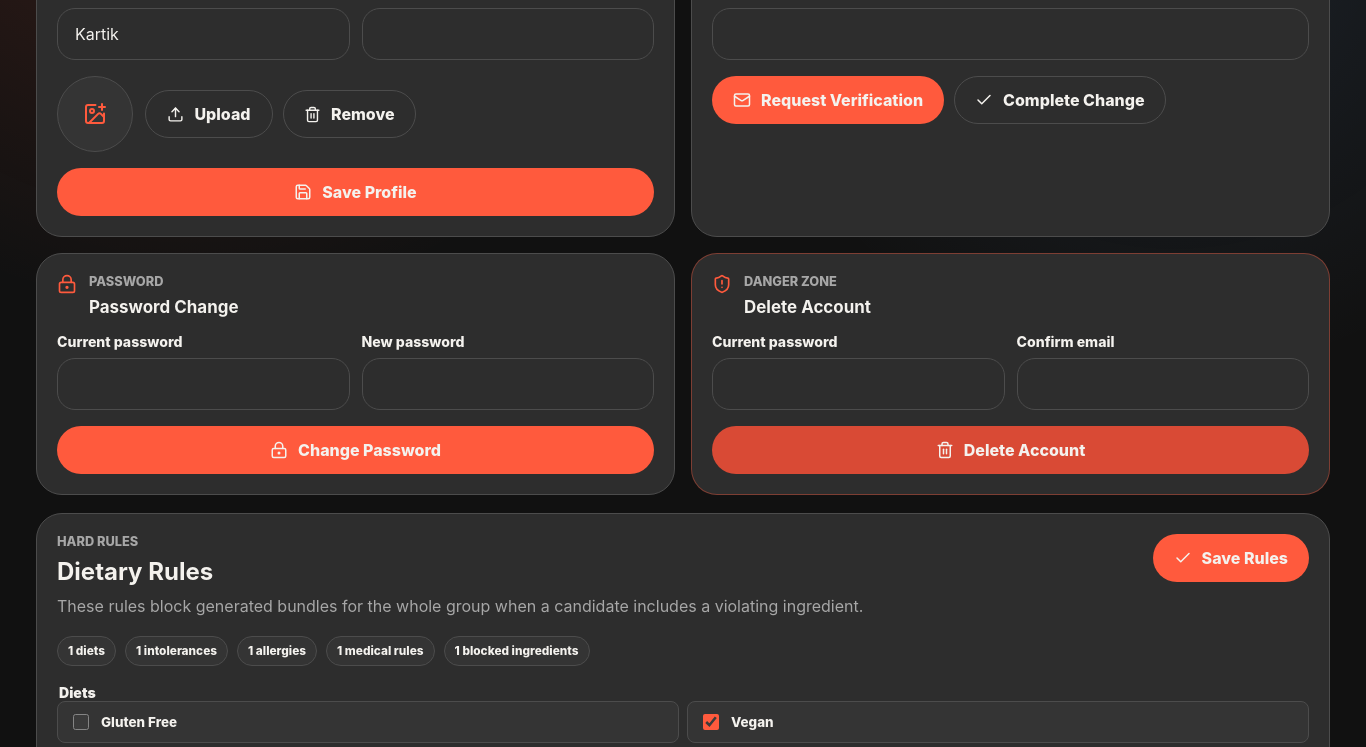
ProfilePage US5 controls › changes the password and clears the saved session when re-authentication is required
(page scrolled)
Expected: the field labelled "Display name" is shown, 57,8 -> 350,60
Type "current-secret" into the password field labelled "Current password" below "New password" at (203, 384), box 57,358 -> 350,410
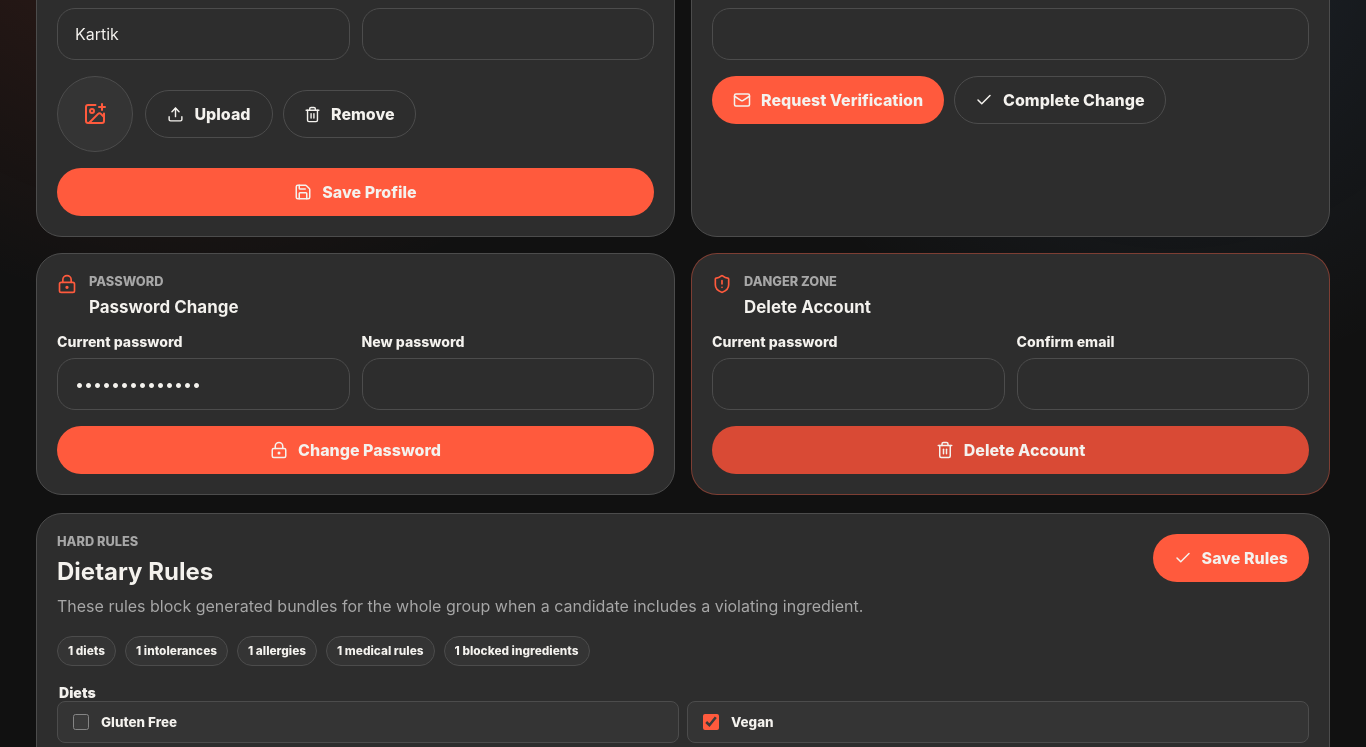
Type "new-secret" into the password field labelled "New password" at (508, 384), box 362,358 -> 654,410
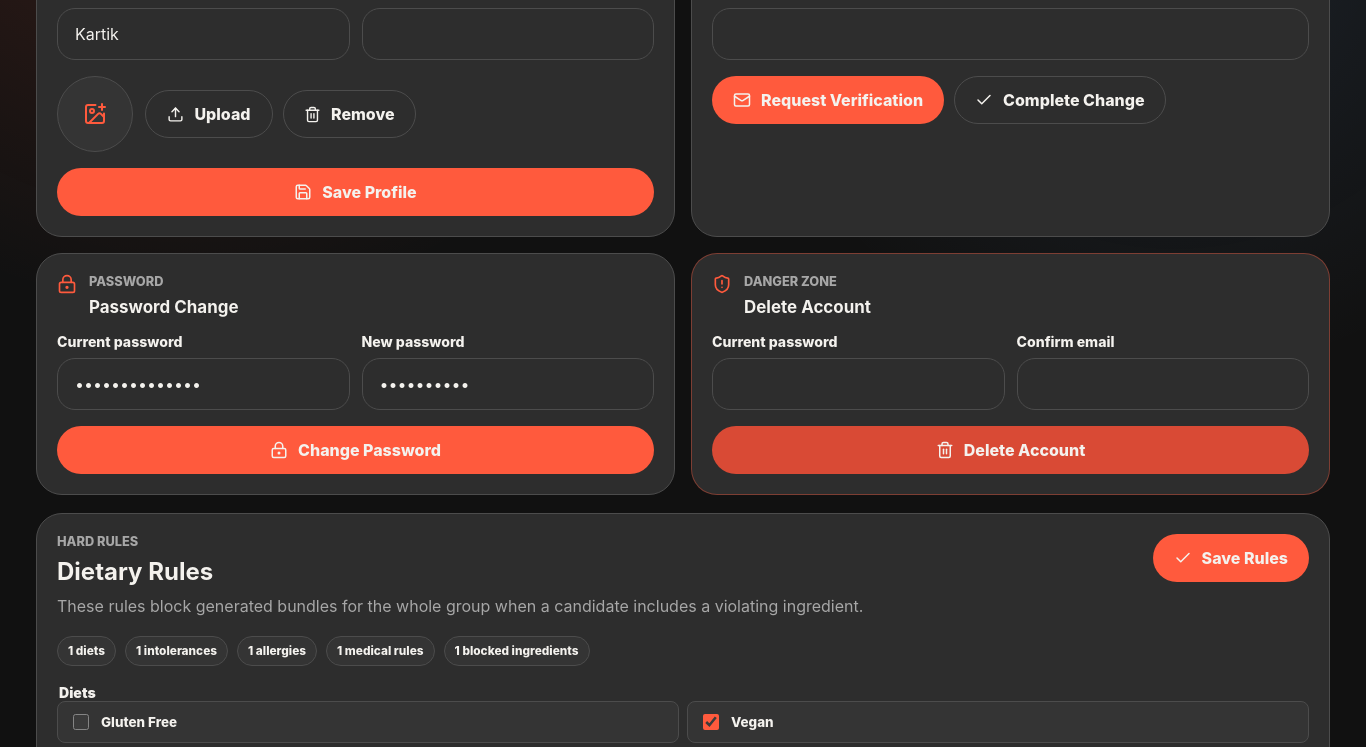
Click the button "Change Password" at (356, 450), box 57,426 -> 654,474
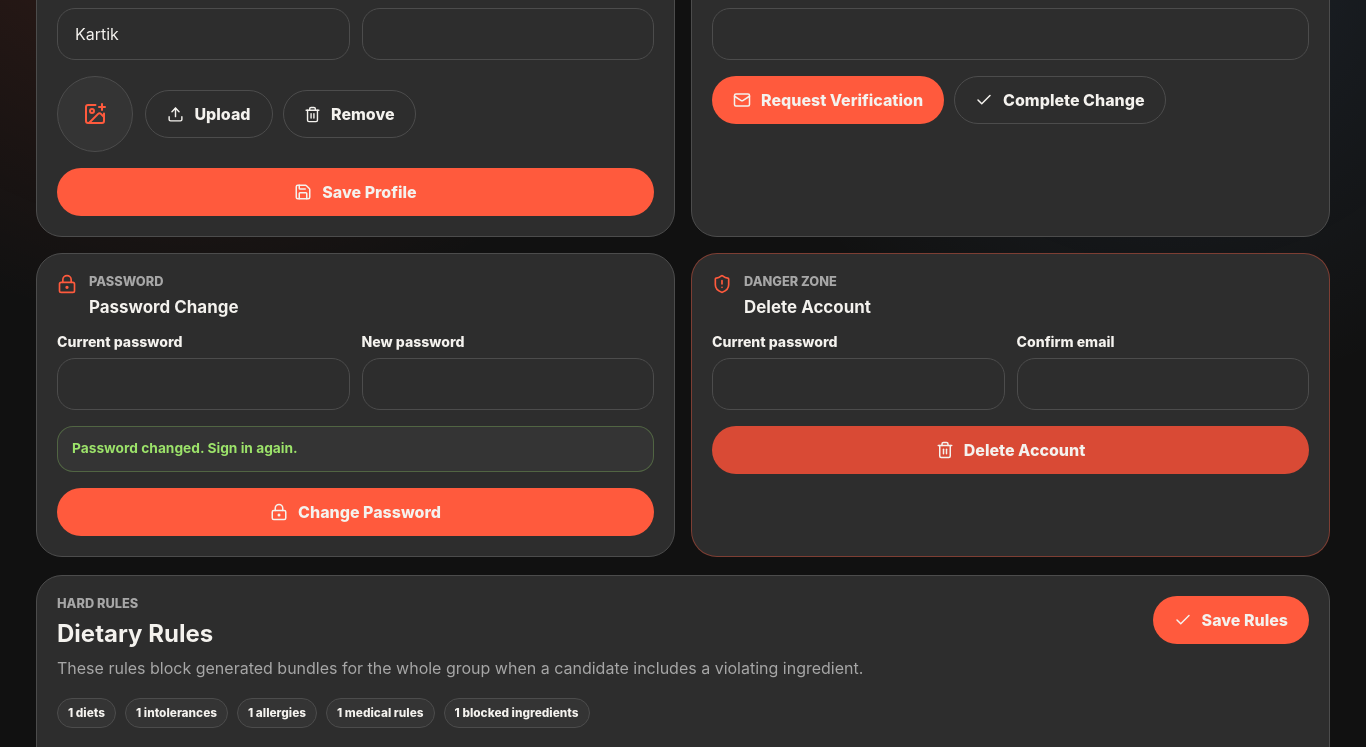
Result: the text "Password changed. Sign in again." is shown at 57,426 -> 654,472
